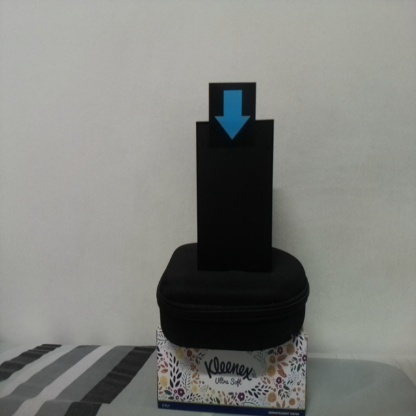id_2: (209, 83, 256, 148)
